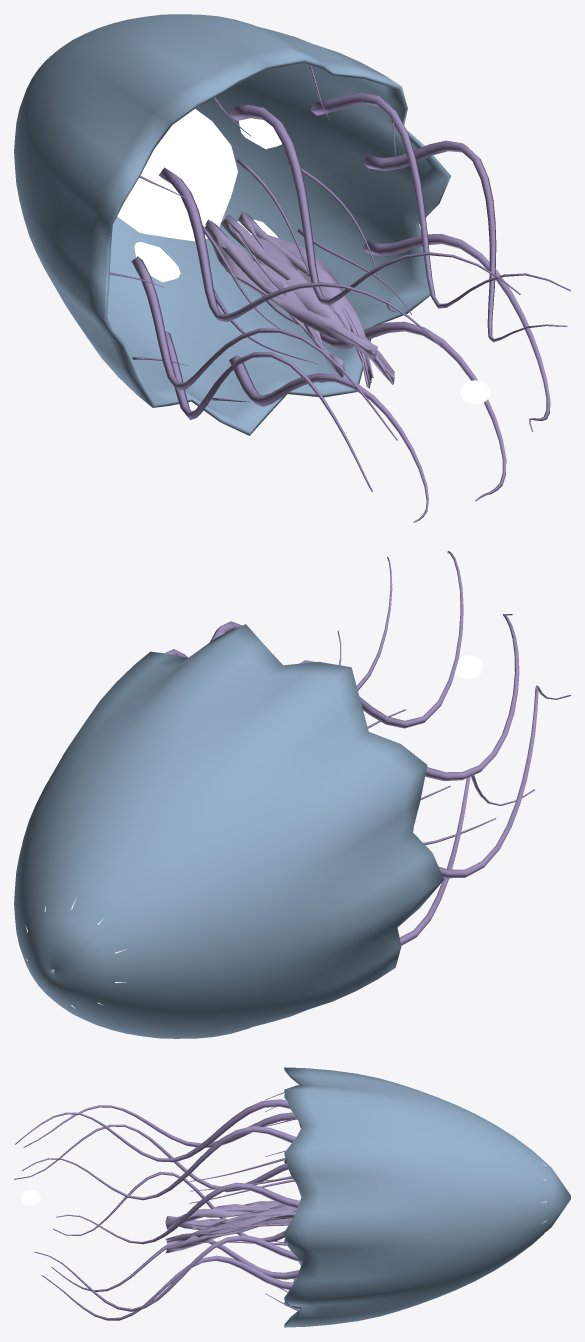
The picture shows the model from 3 angles, top to bottom: view 1: azimuth 30°, elevation 25°; view 2: azimuth 150°, elevation 25°; view 3: azimuth 270°, elevation 25°; orthographic projection. The views are drawn at different scales.
Visible parts, largest first — view 1: RIMWARD_HULL, RIMWARD_EMISSIVE; view 2: RIMWARD_HULL; view 3: RIMWARD_HULL.
Boxes of the visible parts, box(x1,y1,x2,y2) form: RIMWARD_HULL: box(14, 14, 570, 522); RIMWARD_EMISSIVE: box(117, 109, 281, 282); RIMWARD_HULL: box(14, 551, 570, 1038); RIMWARD_HULL: box(14, 1067, 570, 1327).
Size of the model in its own units: 14.77 by 14.77 by 32.
